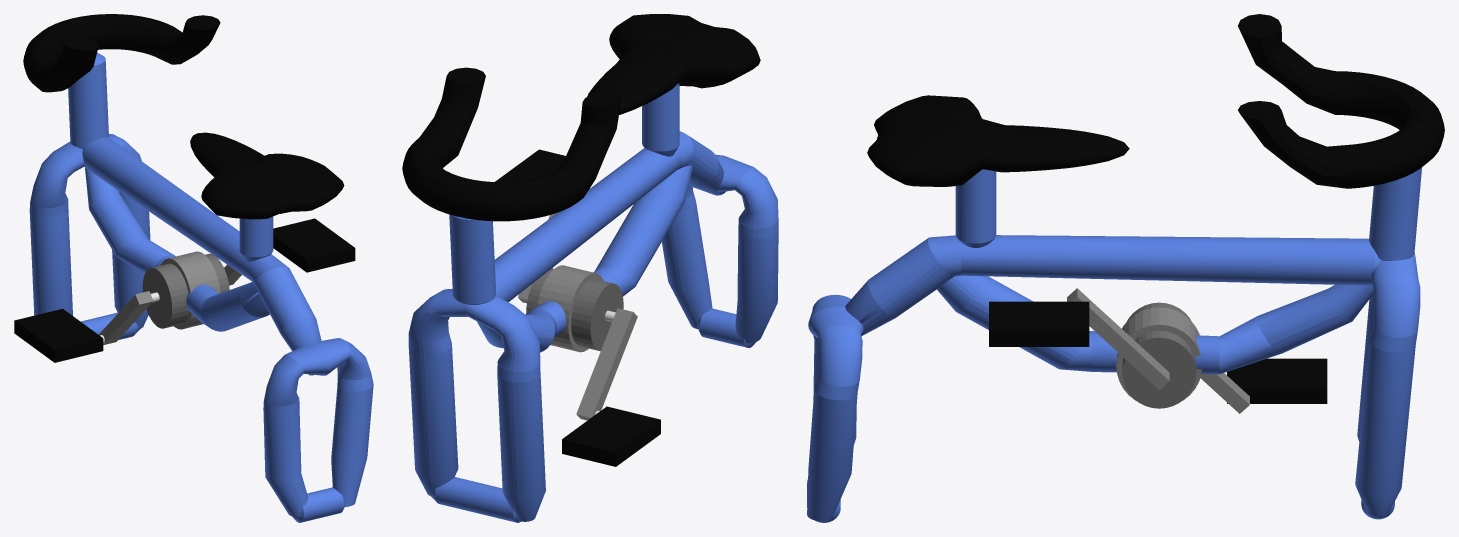
File: BicycleFrame.fbx
3 views of the same model, side by side, from view 1: azimuth 30°, elevation 25°; view 2: azimuth 150°, elevation 25°; view 3: azimuth 270°, elevation 25° (orthographic). The views are drawn at different scales.
Parts seen in each view (by area): view 1: Cylinder.008, Cylinder.002, Sphere, Torus.001, Cylinder.009, Cylinder.013, Cube.008, Cube.010, Cylinder.003, Cylinder.007, Cylinder.004, Cylinder.006 (+3 smaller); view 2: Cylinder.009, Torus.001, Cylinder.008, Sphere, Cylinder.002, Cylinder.013, Cube.008, Cylinder.003, Cylinder.007, Cube.009, Cylinder.015, Cylinder.006 (+3 smaller); view 3: Cylinder.002, Torus.001, Sphere, Cylinder.009, Cylinder.013, Cylinder.008, Cube.010, Cube.008, Cylinder.007, Cylinder.003, Cylinder.006, Cube.012 (+2 smaller).
Boxes of the visible parts, bbox=[...] form: Cylinder.008: bbox=[263, 338, 373, 516]; Cylinder.002: bbox=[82, 137, 321, 375]; Sphere: bbox=[190, 132, 344, 219]; Torus.001: bbox=[23, 14, 220, 92]; Cylinder.009: bbox=[29, 134, 150, 328]; Cylinder.013: bbox=[85, 168, 269, 331]; Cube.008: bbox=[14, 308, 103, 362]; Cube.010: bbox=[273, 218, 355, 272]; Cylinder.003: bbox=[68, 52, 108, 148]; Cylinder.007: bbox=[142, 253, 229, 328]; Cylinder.004: bbox=[160, 251, 220, 329]; Cylinder.006: bbox=[239, 216, 273, 261]; Cylinder.009: bbox=[408, 289, 545, 521]; Torus.001: bbox=[402, 67, 621, 221]; Cylinder.008: bbox=[662, 154, 778, 343]; Sphere: bbox=[587, 14, 760, 114]; Cylinder.002: bbox=[494, 131, 725, 301]; Cylinder.013: bbox=[477, 165, 692, 352]; Cube.008: bbox=[562, 406, 660, 466]; Cylinder.003: bbox=[449, 214, 496, 304]; Cylinder.007: bbox=[526, 268, 623, 351]; Cube.009: bbox=[576, 308, 637, 420]; Cylinder.015: bbox=[430, 477, 520, 522]; Cylinder.006: bbox=[642, 83, 679, 156]; Cylinder.002: bbox=[845, 235, 1381, 335]; Torus.001: bbox=[1238, 14, 1444, 188]; Sphere: bbox=[867, 95, 1129, 186]; Cylinder.009: bbox=[1355, 253, 1420, 517]; Cylinder.013: bbox=[937, 275, 1373, 374]; Cylinder.008: bbox=[807, 294, 863, 521]; Cube.010: bbox=[989, 301, 1089, 346]; Cube.008: bbox=[1227, 358, 1327, 403]; Cylinder.007: bbox=[1122, 302, 1196, 408]; Cylinder.003: bbox=[1369, 167, 1421, 260]; Cylinder.006: bbox=[955, 169, 996, 247]; Cube.012: bbox=[1067, 288, 1169, 389].
Bounding box in the file's own units: 335 × 566 × 726.
